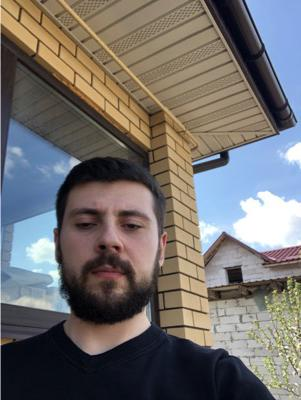without_mask: (61, 200, 156, 324)
